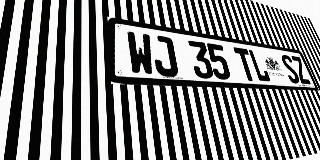3: (188, 40, 215, 79)
5: (206, 43, 232, 80)
J: (151, 34, 179, 77)
L: (247, 49, 271, 82)
S: (279, 54, 301, 84)
T: (233, 47, 258, 81)
W: (126, 31, 156, 76)
Z: (290, 56, 311, 84)
